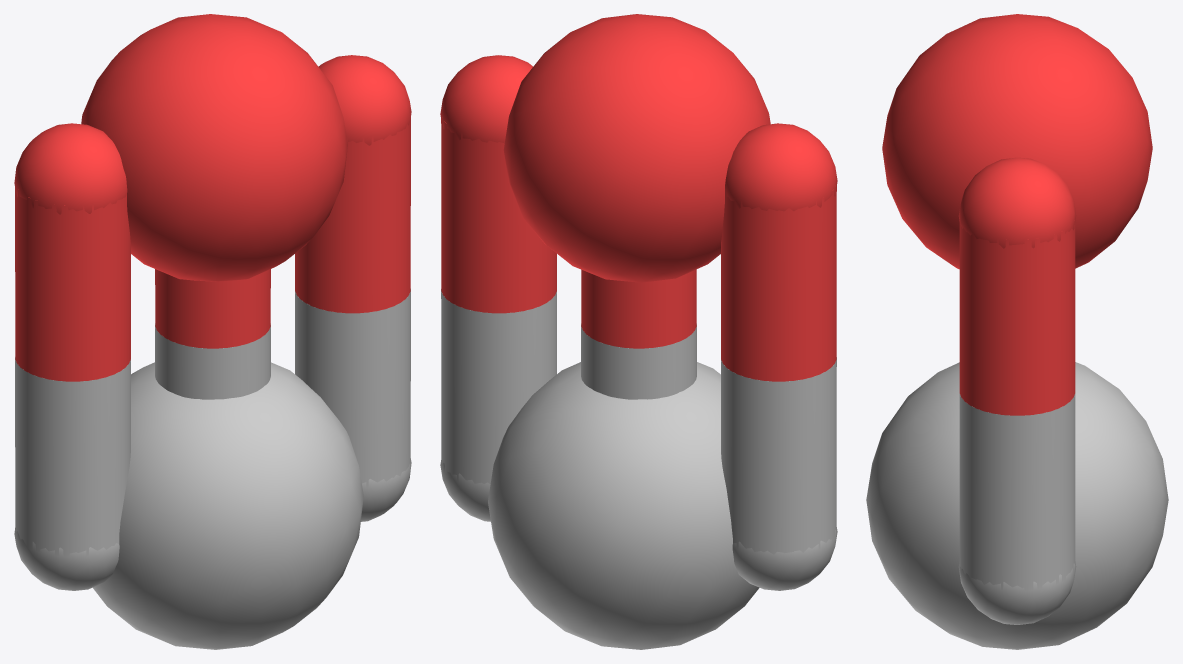
3 renders of one model, left to right at view 1: azimuth 30°, elevation 25°; view 2: azimuth 150°, elevation 25°; view 3: azimuth 270°, elevation 25°, orthographic.
Visible parts, largest first — view 1: CO; view 2: CO; view 3: CO.
Part boxes in pixels (x1,y1,x2,y2): CO: (14,14,411,649); CO: (440,14,837,649); CO: (866,14,1168,649).
Bounding box in the file's own units: 1.14 × 1.74 × 0.782.
